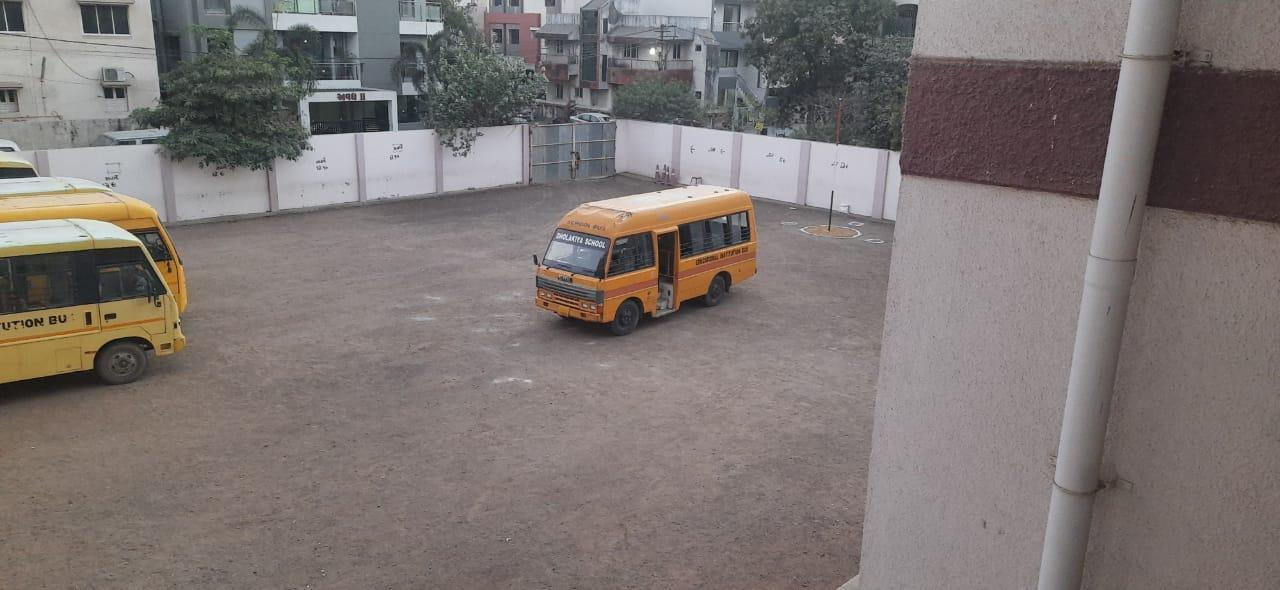Bus: (524, 164, 783, 350), (13, 224, 200, 386), (38, 181, 205, 296)
